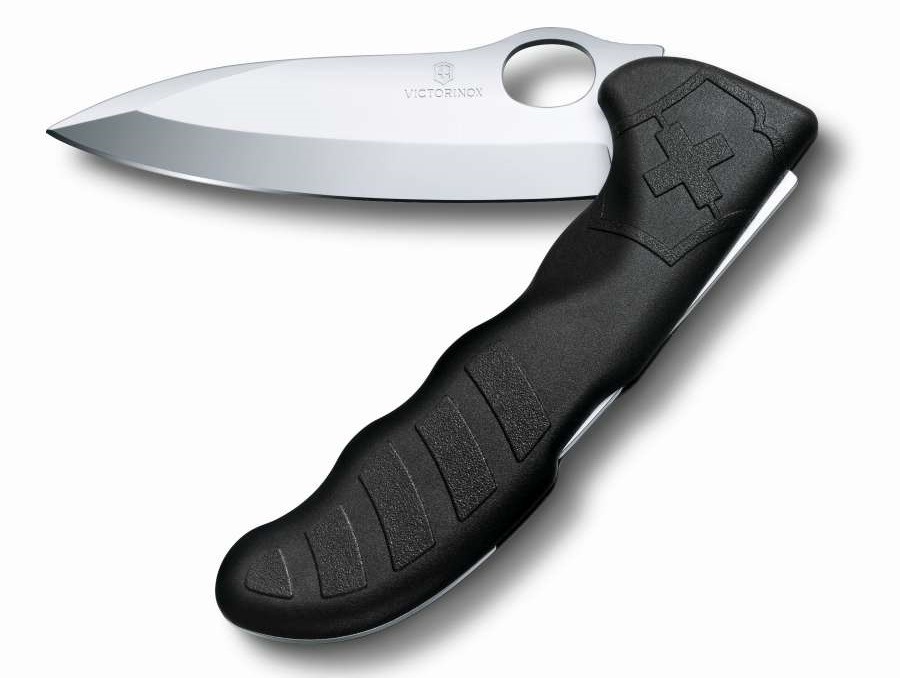knife: (23, 28, 625, 212)
